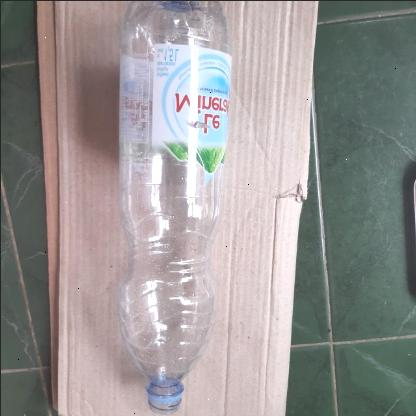Plastic Bottle: (117, 0, 233, 412)
